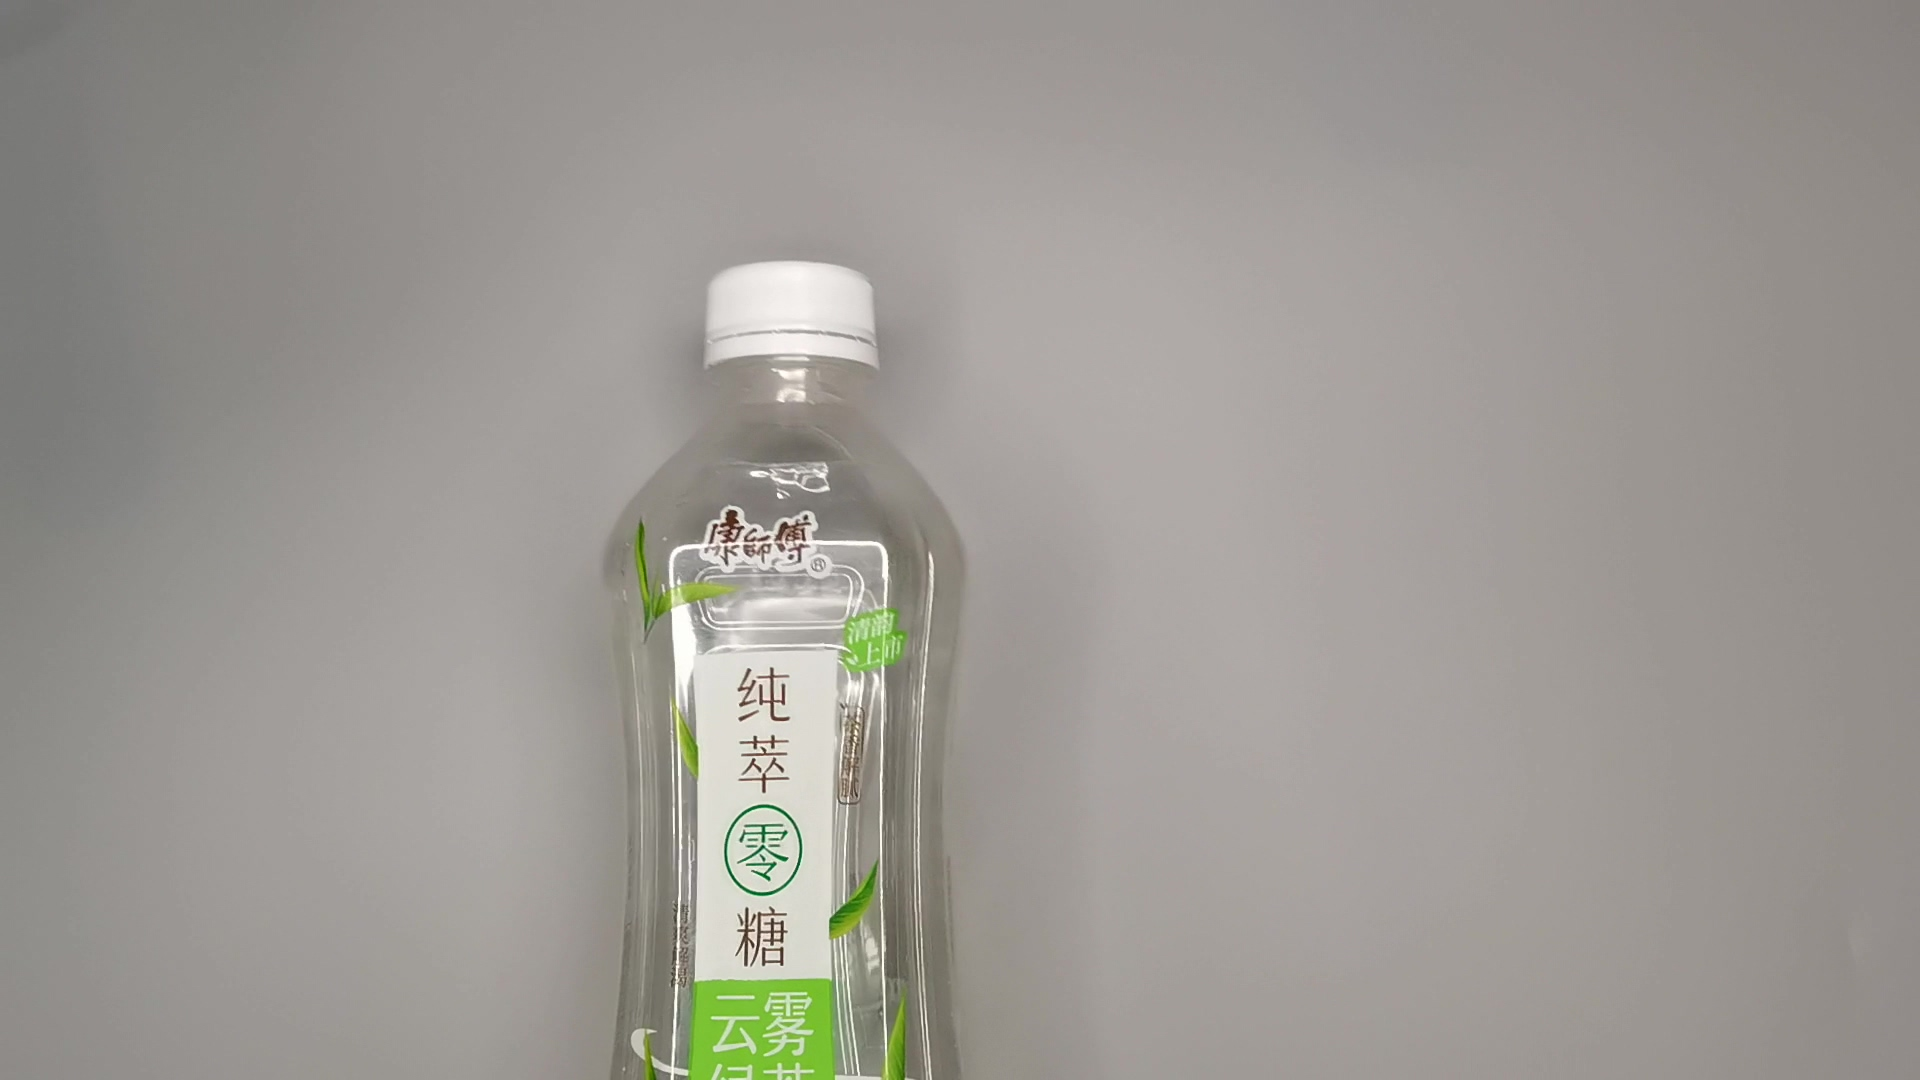bottle: (571, 255, 1006, 1080)
